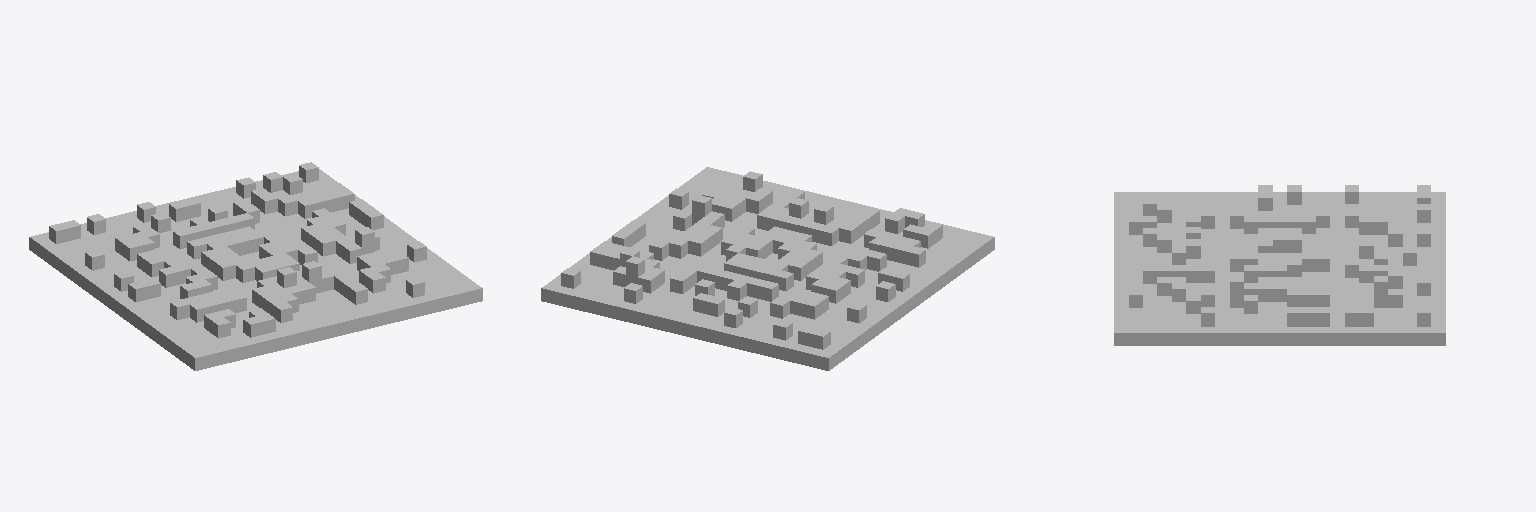
Rendered from Cave Tile 3.obj.
3 views of the same model, side by side, from view 1: azimuth 30°, elevation 25°; view 2: azimuth 150°, elevation 25°; view 3: azimuth 270°, elevation 25° (orthographic).
Parts seen in each view (by area): view 1: object 1; view 2: object 1; view 3: object 1.
Part boxes in pixels (left/top/right/bottom): object 1: left=29, top=162, right=482, bottom=370; object 1: left=541, top=167, right=994, bottom=370; object 1: left=1114, top=185, right=1445, bottom=345.
Size of the model in its own units: 2.3 by 0.3 by 2.3.